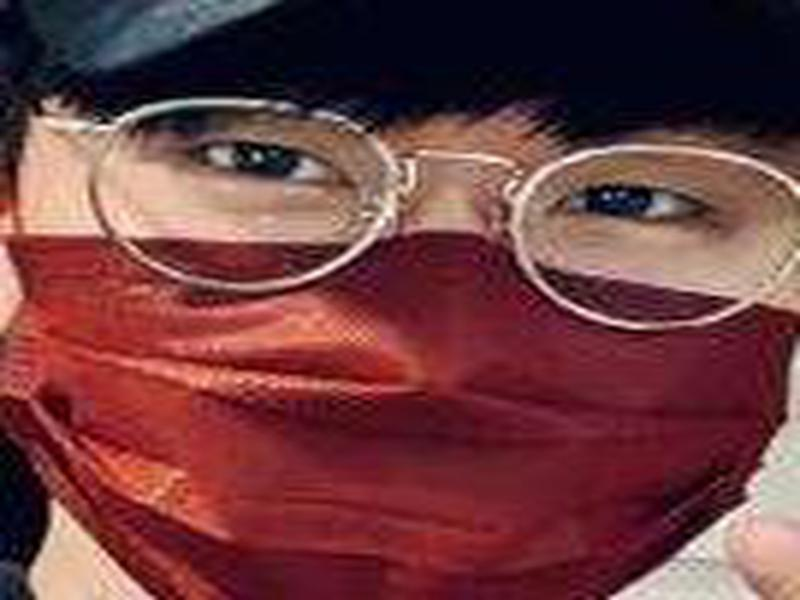with_mask: (5, 53, 800, 600)
